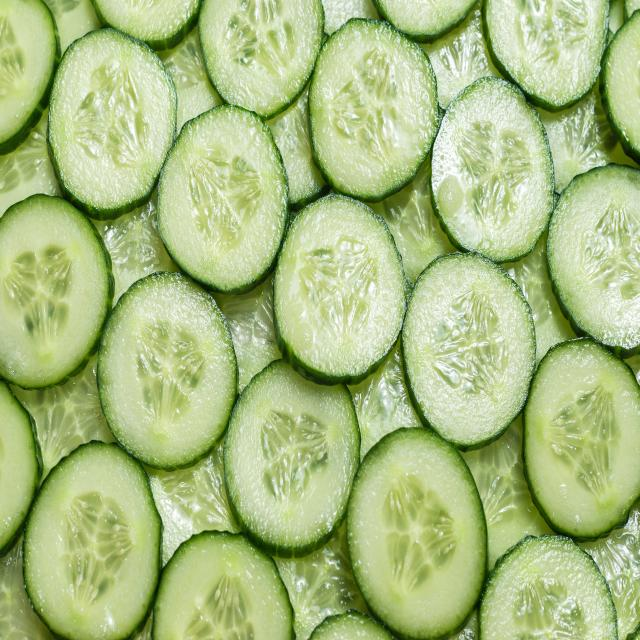Pickle: (346, 429, 488, 639), (96, 273, 238, 470), (24, 442, 161, 639), (224, 360, 360, 558), (402, 253, 535, 449), (274, 195, 406, 384), (159, 105, 289, 292), (49, 28, 176, 217), (309, 19, 439, 202), (522, 339, 640, 539), (431, 77, 554, 262), (0, 195, 114, 389), (548, 165, 640, 356), (152, 532, 294, 640), (199, 0, 324, 120), (479, 536, 618, 640), (482, 0, 609, 110), (0, 380, 44, 556), (599, 9, 640, 163), (92, 0, 201, 51), (374, 0, 476, 43)
